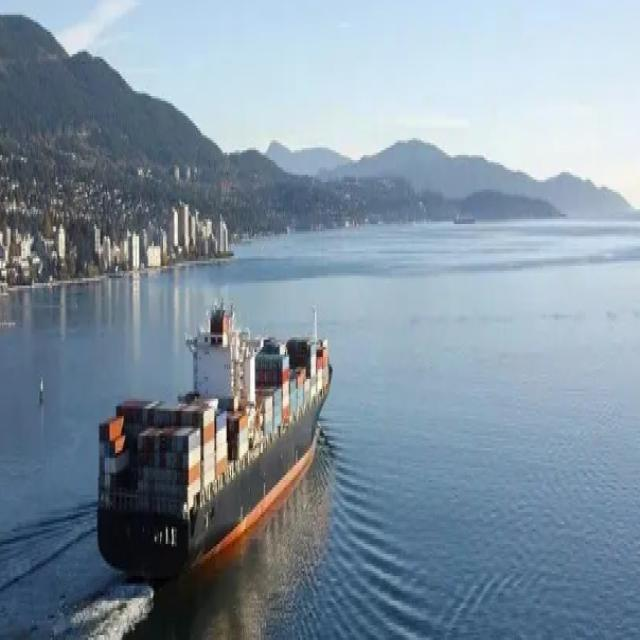cargoship: (96, 290, 332, 582)
